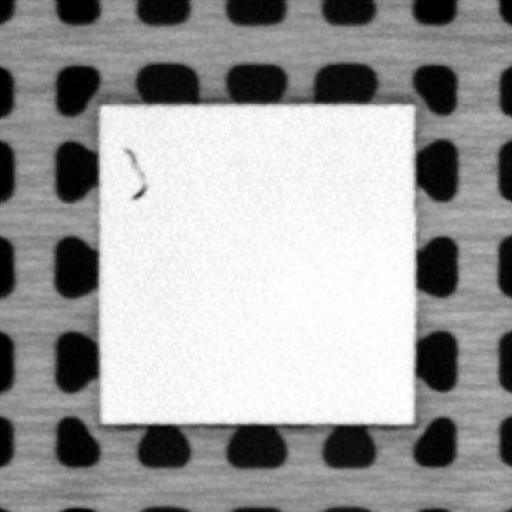DIE_INK: (120, 142, 148, 198)
